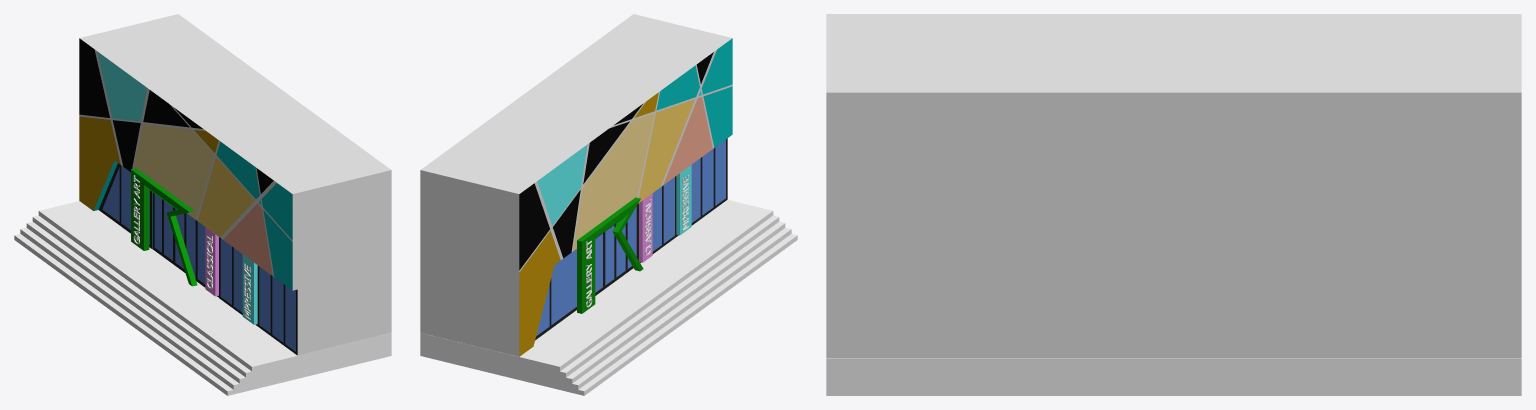
Rendered from Tòa bò sữa.obj.
The picture shows the model from 3 angles, left to right: view 1: azimuth 30°, elevation 25°; view 2: azimuth 150°, elevation 25°; view 3: azimuth 270°, elevation 25°; orthographic projection. The views are drawn at different scales.
Parts seen in each view (by area): view 1: Mesh5 Group10 Group9 Group1 T_a_b__s_a_1 Model, Mesh1 Group3 Group2 Group1 T_a_b__s_a_1 Model, Mesh3 Group7 Group5 Group4 Group1 T_a_b__s_a_1 Model, Mesh4 Group8 Group5 Group4 Group1 T_a_b__s_a_1 Model, Mesh2 Group6 Group5 Group4 Group1 T_a_b__s_a_1 Model; view 2: Mesh5 Group10 Group9 Group1 T_a_b__s_a_1 Model, Mesh1 Group3 Group2 Group1 T_a_b__s_a_1 Model, Mesh3 Group7 Group5 Group4 Group1 T_a_b__s_a_1 Model, Mesh4 Group8 Group5 Group4 Group1 T_a_b__s_a_1 Model, Mesh2 Group6 Group5 Group4 Group1 T_a_b__s_a_1 Model; view 3: Mesh5 Group10 Group9 Group1 T_a_b__s_a_1 Model, Mesh1 Group3 Group2 Group1 T_a_b__s_a_1 Model.
Part boxes in pixels (left/top/right/bottom): Mesh5 Group10 Group9 Group1 T_a_b__s_a_1 Model: left=79, top=14, right=391, bottom=355; Mesh1 Group3 Group2 Group1 T_a_b__s_a_1 Model: left=14, top=201, right=391, bottom=395; Mesh3 Group7 Group5 Group4 Group1 T_a_b__s_a_1 Model: left=131, top=168, right=197, bottom=286; Mesh4 Group8 Group5 Group4 Group1 T_a_b__s_a_1 Model: left=242, top=254, right=257, bottom=324; Mesh2 Group6 Group5 Group4 Group1 T_a_b__s_a_1 Model: left=205, top=227, right=218, bottom=296; Mesh5 Group10 Group9 Group1 T_a_b__s_a_1 Model: left=420, top=14, right=732, bottom=356; Mesh1 Group3 Group2 Group1 T_a_b__s_a_1 Model: left=420, top=199, right=797, bottom=395; Mesh3 Group7 Group5 Group4 Group1 T_a_b__s_a_1 Model: left=577, top=197, right=643, bottom=313; Mesh4 Group8 Group5 Group4 Group1 T_a_b__s_a_1 Model: left=676, top=165, right=691, bottom=235; Mesh2 Group6 Group5 Group4 Group1 T_a_b__s_a_1 Model: left=639, top=193, right=652, bottom=262; Mesh5 Group10 Group9 Group1 T_a_b__s_a_1 Model: left=826, top=14, right=1521, bottom=357; Mesh1 Group3 Group2 Group1 T_a_b__s_a_1 Model: left=826, top=358, right=1521, bottom=395.
Size of the model in its own units: 7438 by 8054 by 16740.
